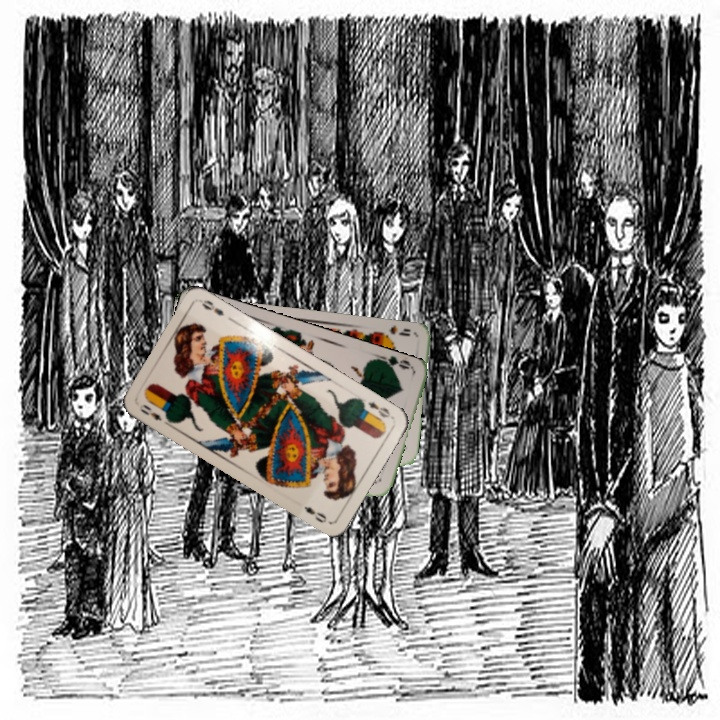EO: (363, 398, 396, 421), (135, 400, 164, 423)
GO: (373, 351, 414, 375)
S9: (375, 322, 413, 340)
